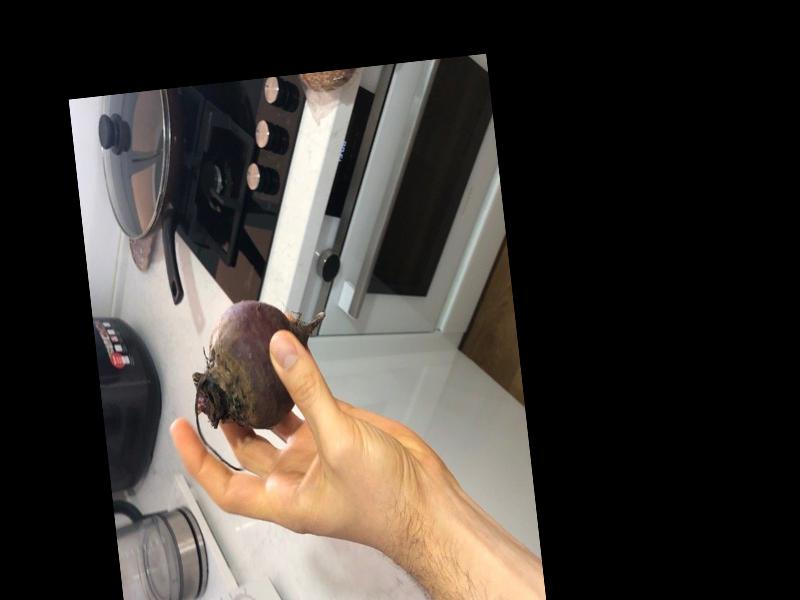Beet: (184, 293, 340, 472)
